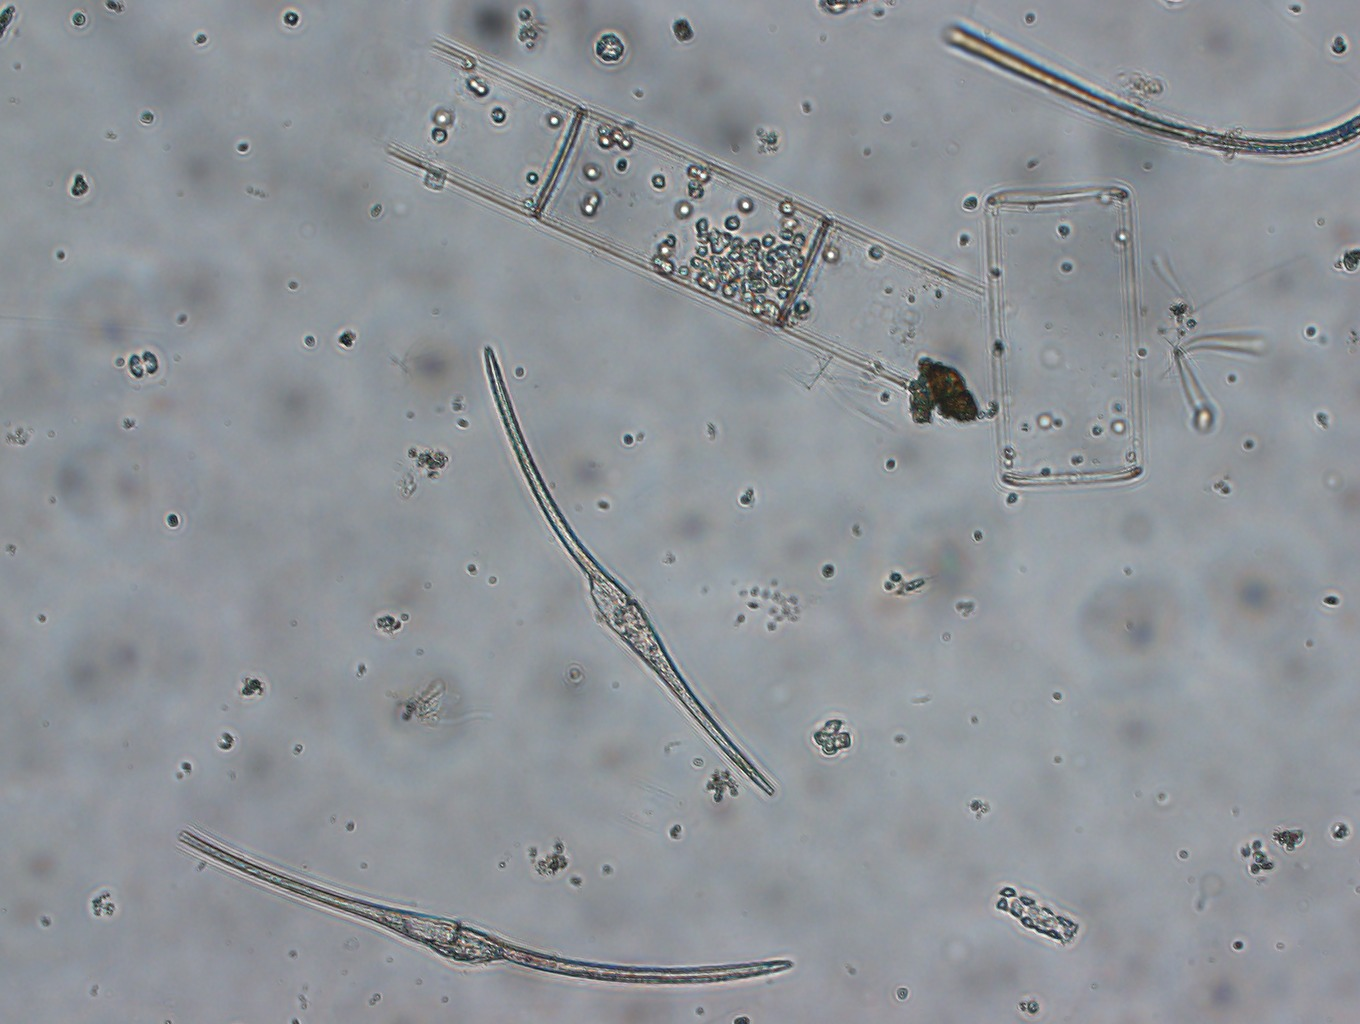ceratium fusus: (474, 339, 783, 806), (163, 822, 797, 991)
guinardia flaccida: (378, 25, 986, 387), (973, 172, 1165, 498)
